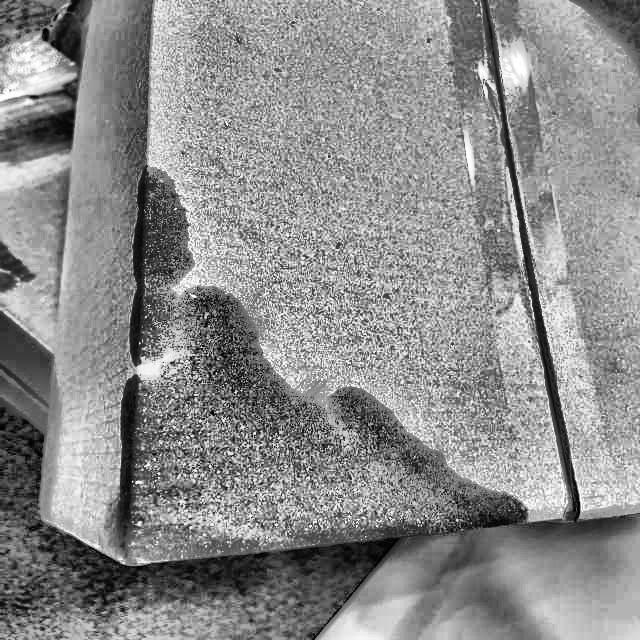box: (26, 0, 639, 581)
wet: (123, 169, 526, 563)
